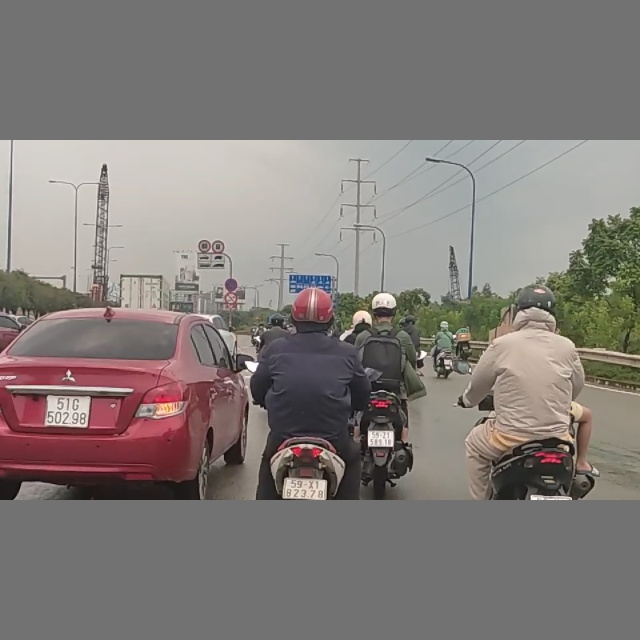P.130: (224, 278, 238, 291)
